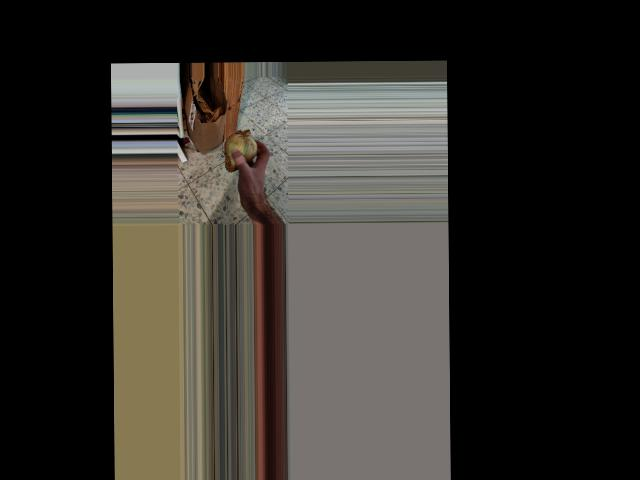onion: (220, 128, 261, 173)
